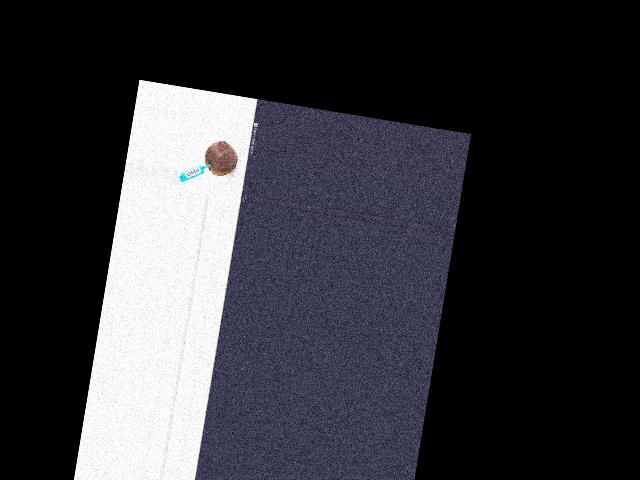beet: (202, 139, 240, 178)
